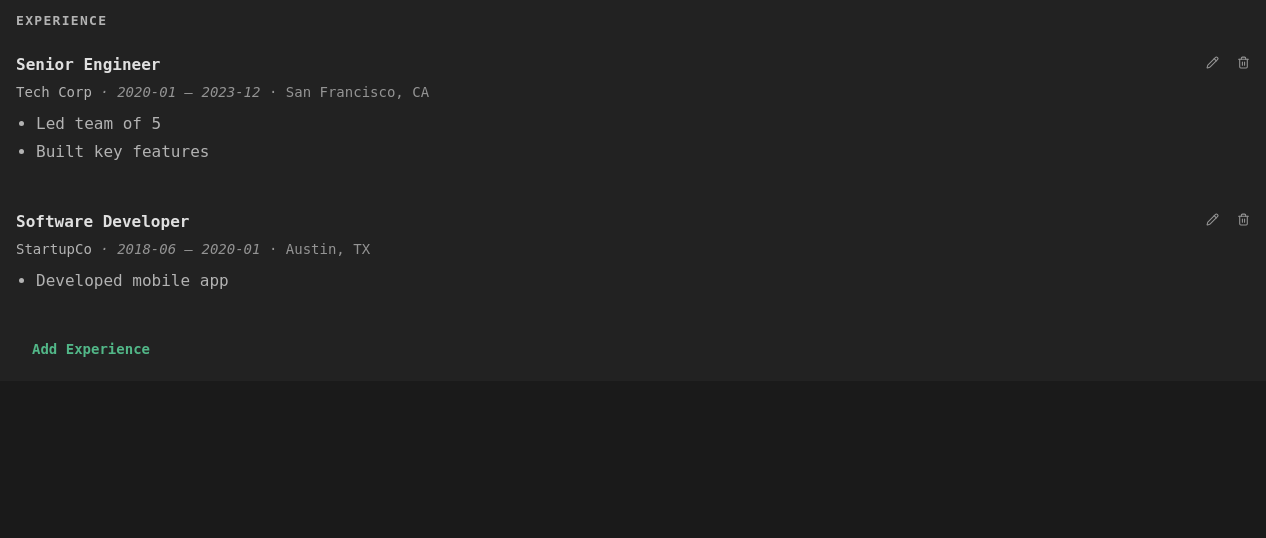
Test: ExperienceSection (edit/add/delete) › add mode › shows entry form when add button clicked
Click the button "Add Experience" at (91, 349), box [16,333,166,365]
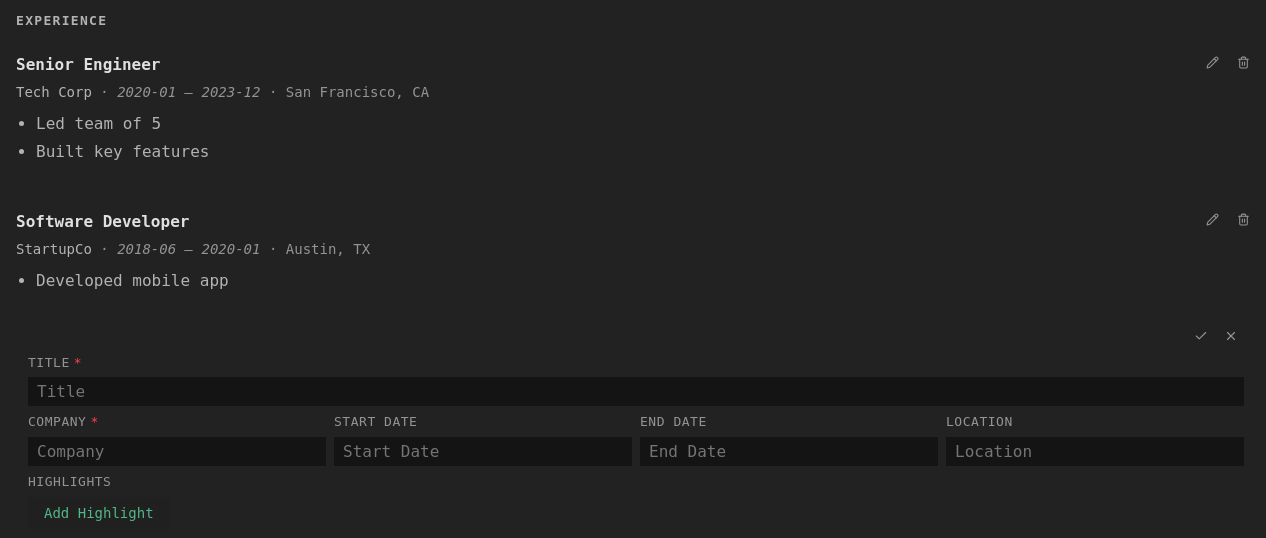
Expected: the field labelled "Title*" is shown, [28,377,1244,406]
Expected: the field labelled "Company*" is shown, [28,437,326,466]
